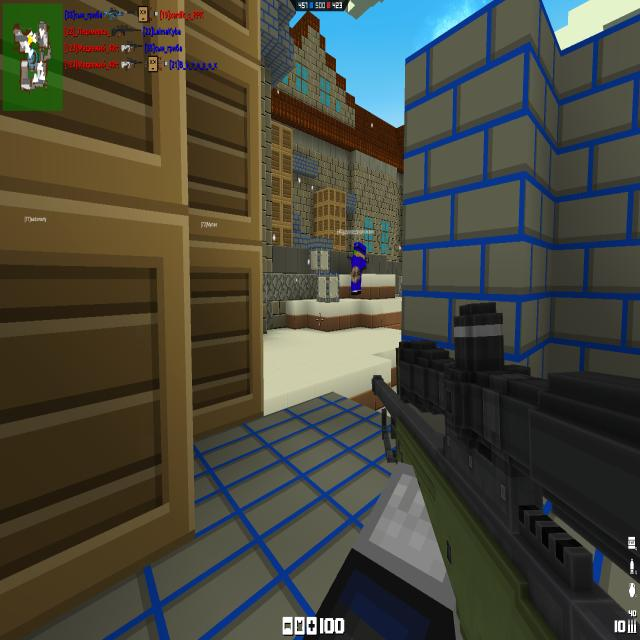player: (349, 243, 369, 296)
